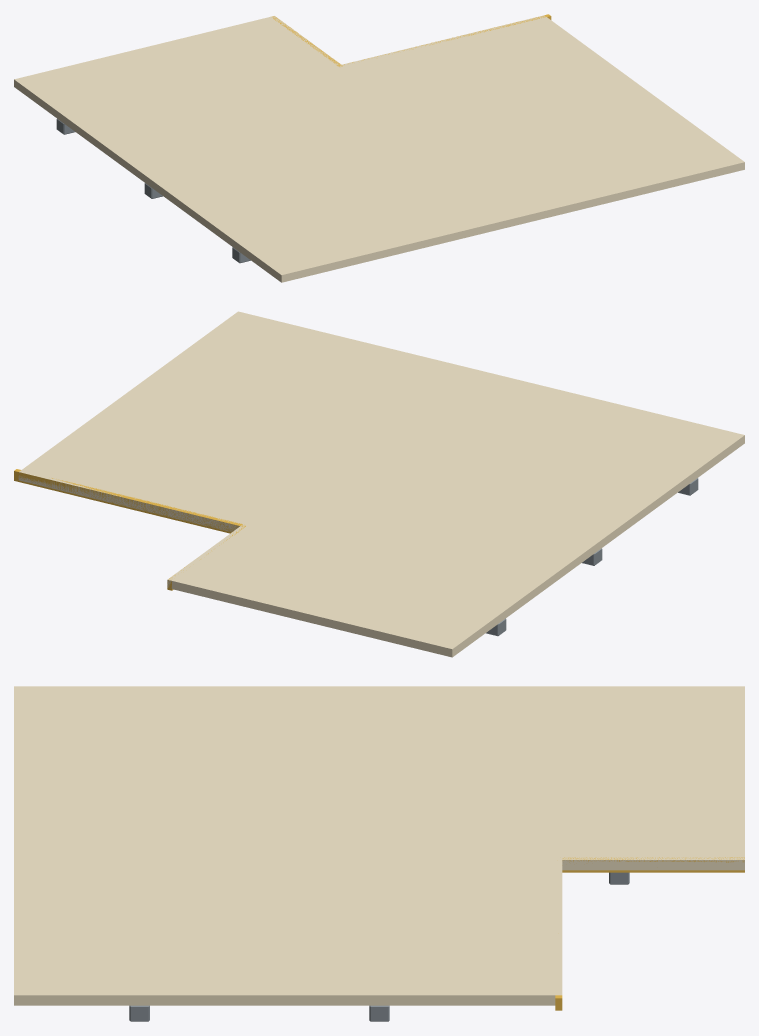
Rendered from Kit_CeilingHole.fbx.
The picture shows the model from 3 angles, top to bottom: view 1: azimuth 30°, elevation 25°; view 2: azimuth 150°, elevation 25°; view 3: azimuth 270°, elevation 25°; orthographic projection. The views are drawn at different scales.
Visible parts, largest first — view 1: Decor; view 2: Decor; view 3: Decor.
Part boxes in pixels (x1=…): Decor: x1=14, y1=14, x2=744, y2=282; Decor: x1=14, y1=311, x2=744, y2=657; Decor: x1=14, y1=686, x2=744, y2=1021.
Bounding box in the file's own units: 32.3 × 1.3 × 32.
